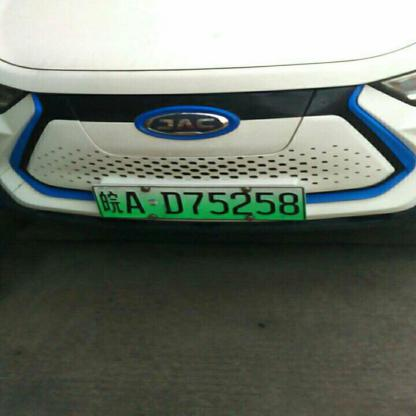lp: (91, 184, 307, 219)
